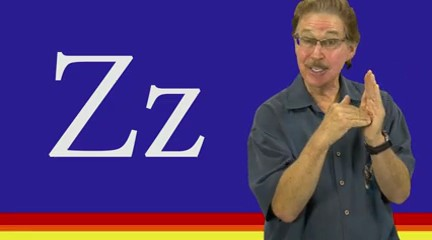Z: (300, 64, 395, 159)
